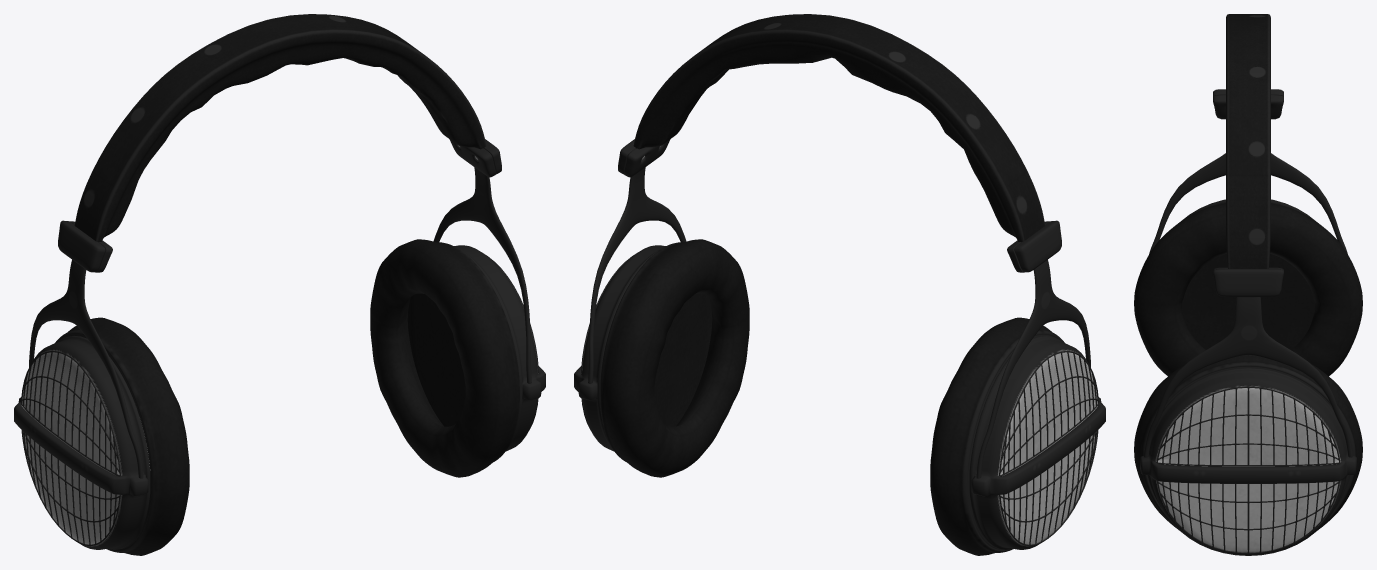
3 renders of one model, left to right at view 1: azimuth 30°, elevation 25°; view 2: azimuth 150°, elevation 25°; view 3: azimuth 270°, elevation 25°, orthographic. The views are drawn at different scales.
Visible parts, largest first — view 1: Cushions, Headphones.Body, HeadBand, Adjustable.2, Wireframe.Detail, Adjustable.1; view 2: Cushions, Headphones.Body, HeadBand, Adjustable.2, Wireframe.Detail, Adjustable.1; view 3: Headphones.Body, Cushions, HeadBand, Adjustable.2, Wireframe.Detail, Adjustable.1.
Part boxes in pixels (box(x1,y1,x2,y2)): Cushions: box(54, 239, 519, 555); Headphones.Body: box(14, 245, 545, 549); HeadBand: box(74, 14, 486, 241); Adjustable.2: box(29, 167, 531, 478); Wireframe.Detail: box(21, 255, 538, 546); Adjustable.1: box(58, 139, 501, 272); Cushions: box(600, 239, 1065, 555); Headphones.Body: box(574, 245, 1105, 549); HeadBand: box(633, 14, 1045, 241); Adjustable.2: box(588, 167, 1090, 478); Wireframe.Detail: box(581, 255, 1098, 546); Adjustable.1: box(618, 139, 1061, 272); Headphones.Body: box(1140, 199, 1356, 555); Cushions: box(1134, 202, 1362, 529); HeadBand: box(1226, 14, 1270, 268); Adjustable.2: box(1144, 153, 1352, 457); Wireframe.Detail: box(1156, 386, 1340, 553); Adjustable.1: box(1213, 89, 1283, 296).
Bounding box in the file's own units: 5.18 × 5.32 × 2.49.
Materials: 1 (1 with a texture image).
